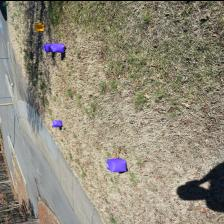cone: (34, 21, 44, 30)
cube: (106, 158, 126, 172), (51, 42, 65, 52), (51, 118, 63, 127), (43, 42, 53, 52)
